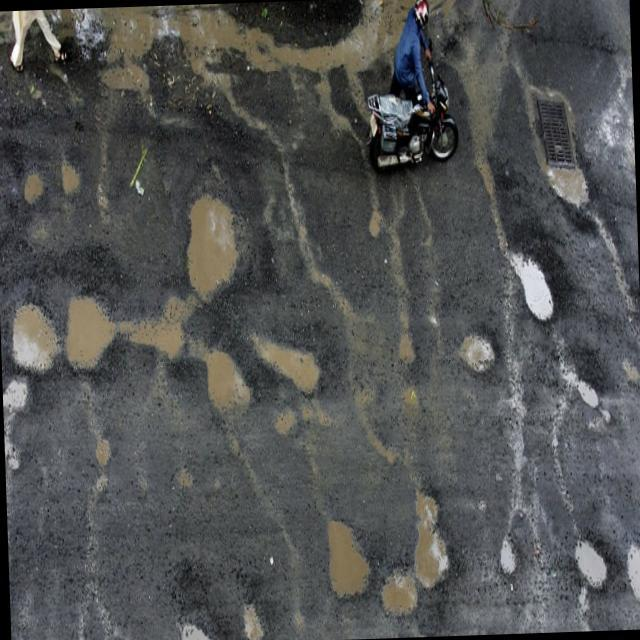Pothole: (184, 187, 240, 303), (252, 326, 328, 402), (200, 336, 254, 431), (321, 510, 376, 603), (62, 288, 117, 381), (507, 248, 561, 330), (414, 483, 454, 592), (9, 293, 56, 377), (544, 148, 592, 216), (568, 524, 611, 592), (457, 324, 498, 381), (379, 568, 421, 620), (238, 587, 266, 640), (271, 398, 301, 444), (624, 530, 640, 612), (2, 373, 28, 422), (576, 367, 600, 412), (498, 528, 518, 578), (396, 332, 422, 369), (175, 616, 214, 640), (90, 433, 116, 468), (60, 152, 78, 201), (616, 355, 640, 390), (22, 167, 44, 203)
